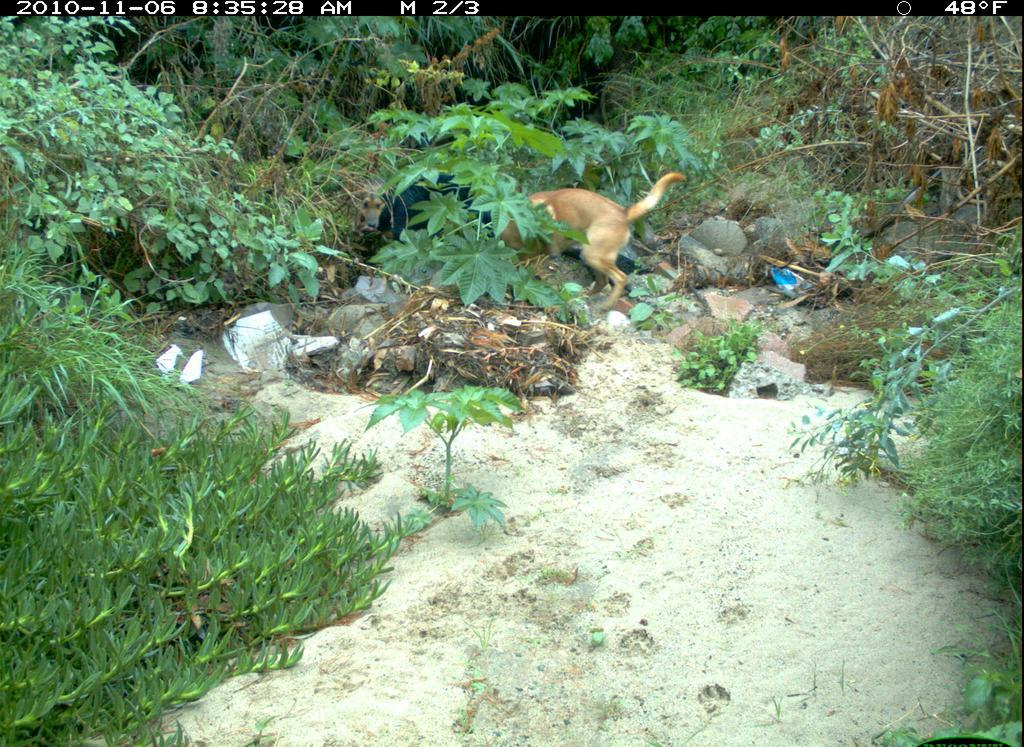dog: (487, 167, 685, 313)
